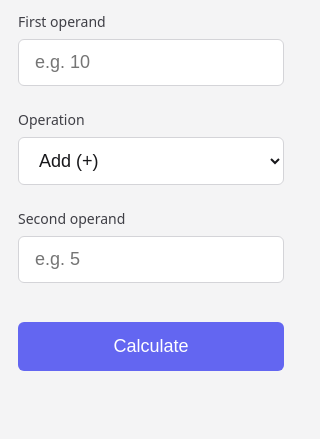
CalculatorForm › shows validation error when second operand is empty
Type "10" into the field labelled "First operand" at (151, 62), box x1=18 y1=39 x2=284 y2=86
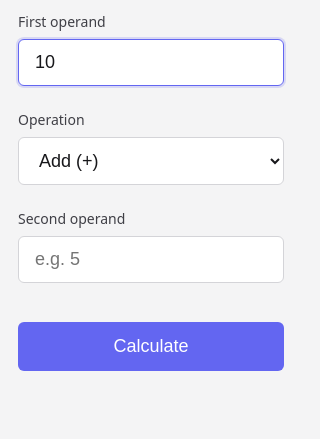
Click the button "Calculate" at (151, 347), box x1=18 y1=322 x2=284 y2=371
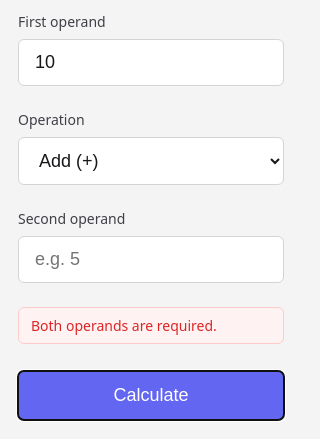
Check: the message reads "Both operands are required.", box x1=31 y1=316 x2=217 y2=335
